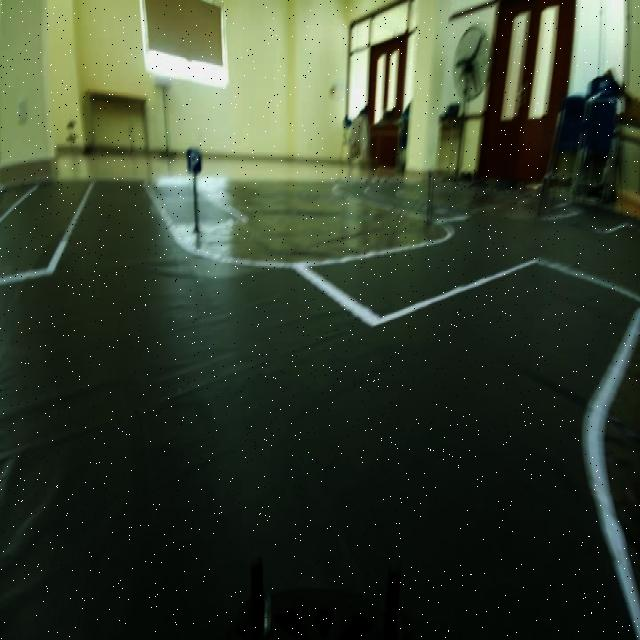parking: (186, 143, 202, 174)
